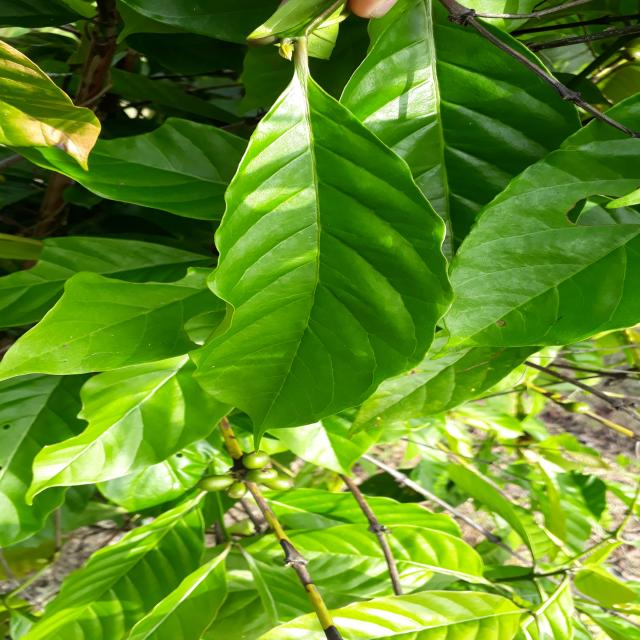Sanas: (195, 75, 450, 444)
